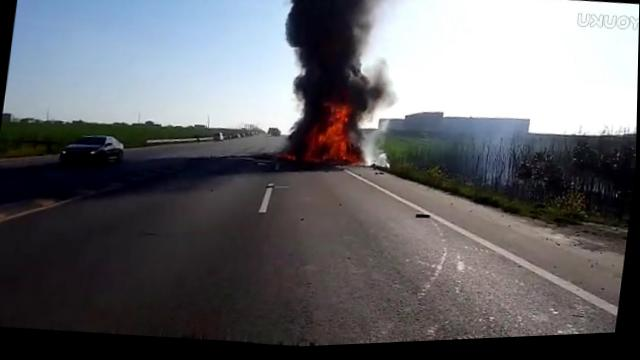fire: (325, 108, 355, 165), (303, 130, 324, 165)
